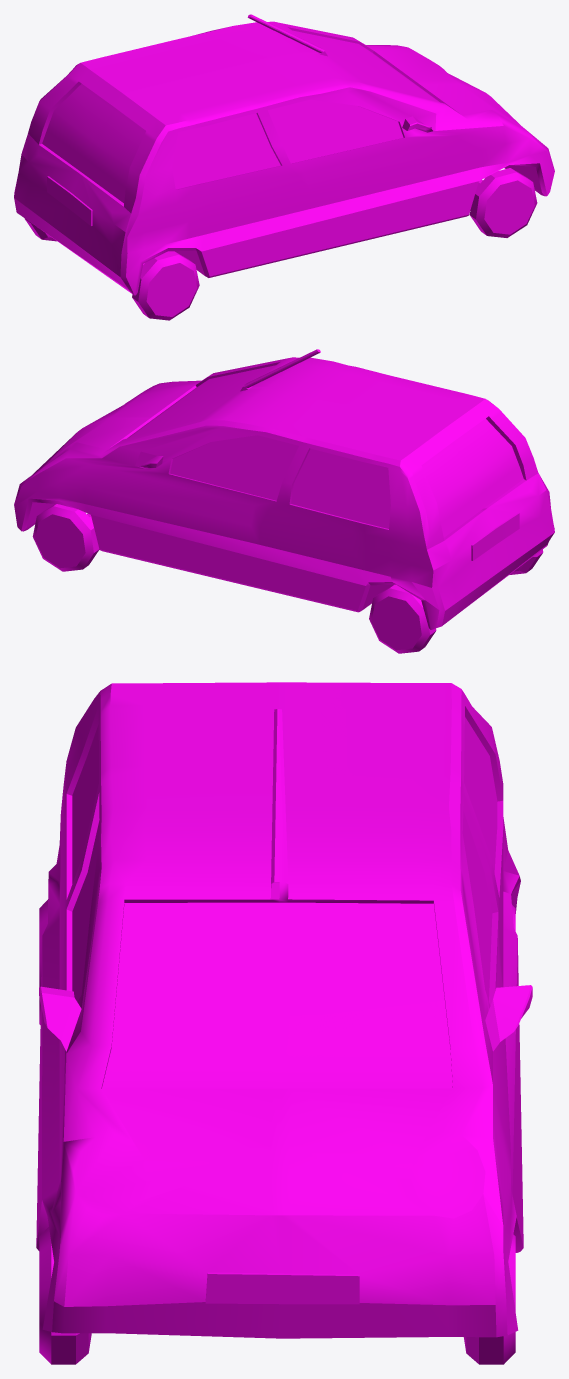
File: car.fbx
3 views of the same model, one above another, from view 1: azimuth 30°, elevation 25°; view 2: azimuth 150°, elevation 25°; view 3: azimuth 270°, elevation 25° (orthographic). The views are drawn at different scales.
Parts seen in each view (by area): view 1: Car; view 2: Car; view 3: Car.
Boxes of the visible parts, bbox=[...] form: Car: bbox=[14, 14, 554, 320]; Car: bbox=[14, 349, 554, 653]; Car: bbox=[36, 682, 532, 1364].
Bounding box in the file's own units: 3.08 × 1.55 × 1.52.
